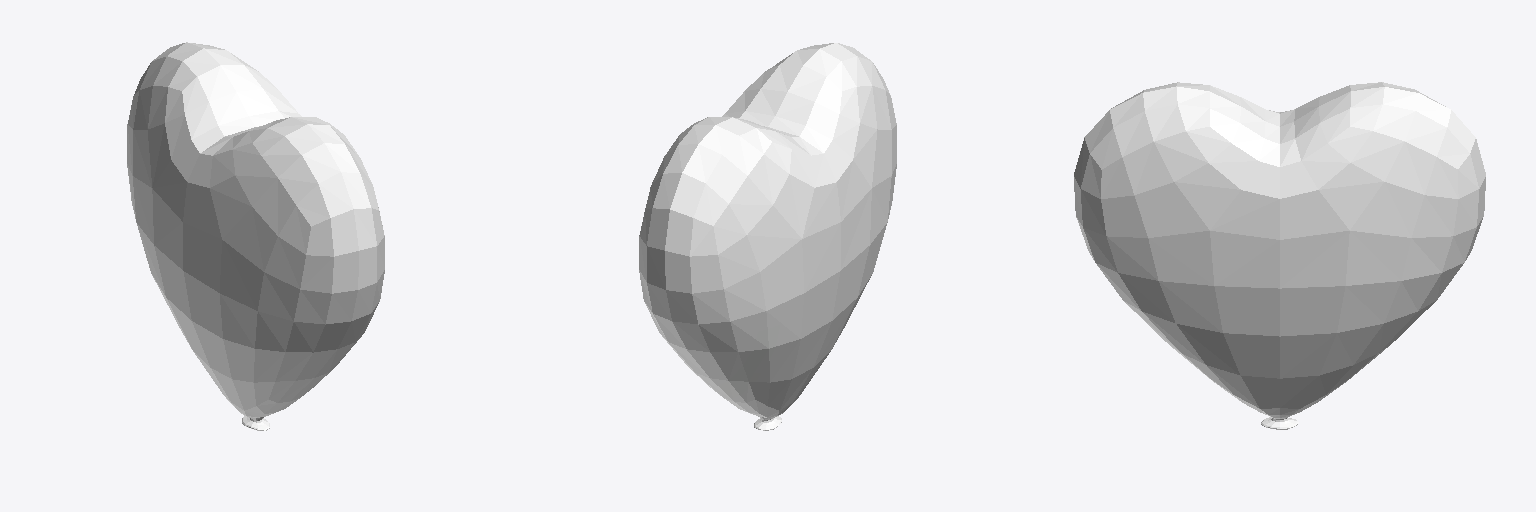
3 renders of one model, left to right at view 1: azimuth 30°, elevation 25°; view 2: azimuth 150°, elevation 25°; view 3: azimuth 270°, elevation 25°, orthographic.
Visible parts, largest first — view 1: balloon_classicheart_reference; view 2: balloon_classicheart_reference; view 3: balloon_classicheart_reference.
Boxes of the visible parts, x1=… form: balloon_classicheart_reference: x1=127, y1=42, x2=384, y2=430; balloon_classicheart_reference: x1=639, y1=43, x2=896, y2=430; balloon_classicheart_reference: x1=1074, y1=82, x2=1485, y2=429.
Size of the model in its own units: 7.86 by 17.42 by 19.21.
Materials: 1 (1 with a texture image).